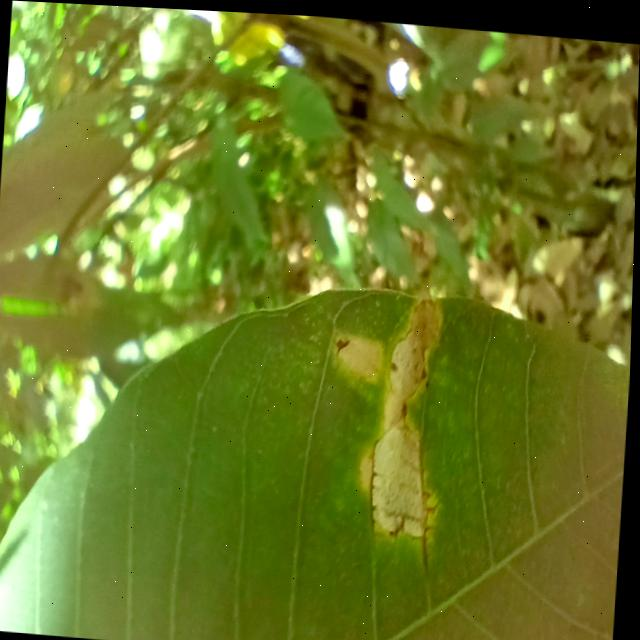Corynespora: (412, 444, 443, 570), (366, 435, 385, 533)
Leaf-Blight: (383, 290, 442, 430), (371, 420, 432, 534), (335, 327, 387, 383)
